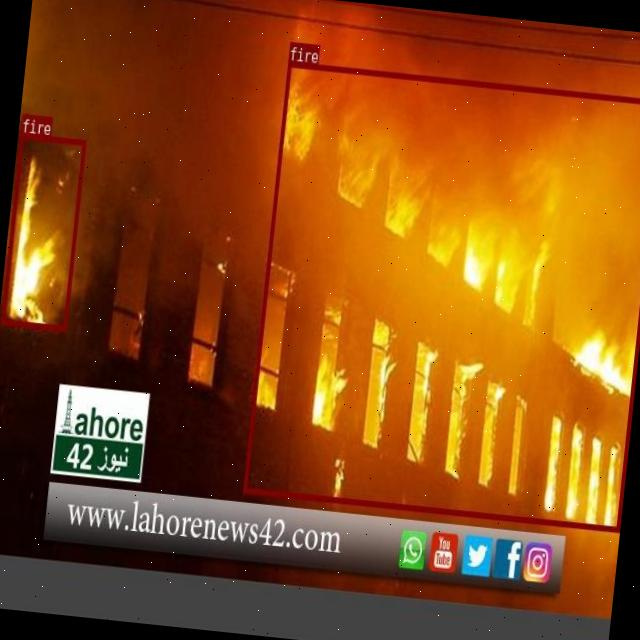fire: (243, 59, 640, 530), (0, 132, 85, 330)
